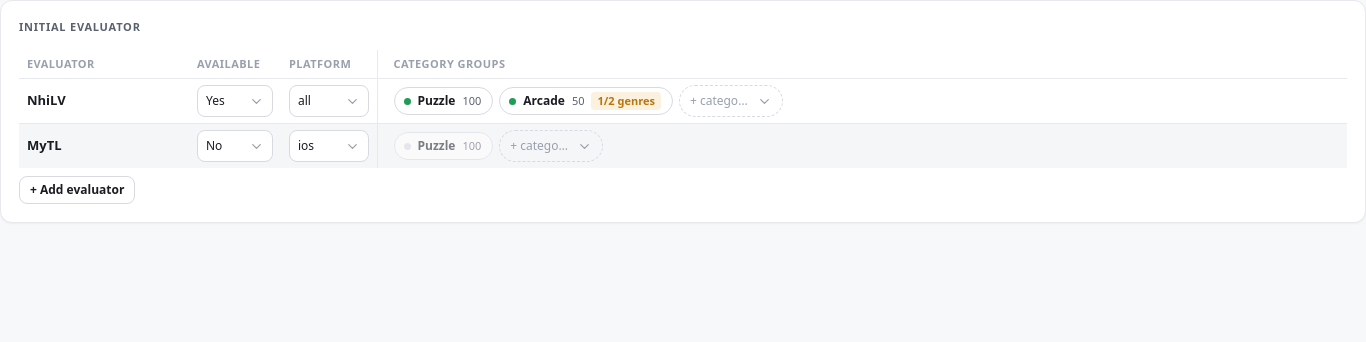
Test: RosterTable › several panels stay open at once, across people
Step 1. Click the button "Arcade 50 1/2 genres" → [586, 101], box [499,87,673,115]
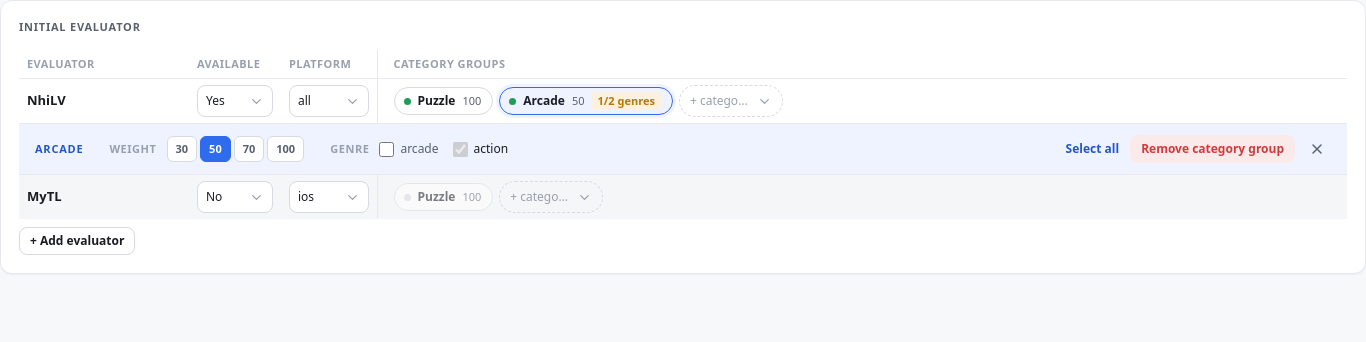
Step 2. Click the button "Puzzle 100" in the row of "MyTL" → [443, 197], box [394,183,493,211]
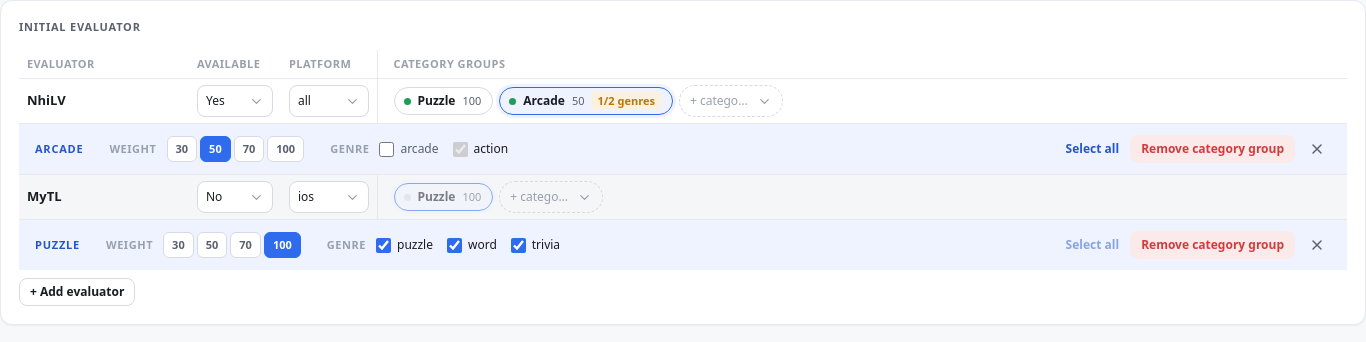
Now the number of rows with class "genre-xrow" is 2, box [19,124,1347,174]; [19,220,1347,270]
